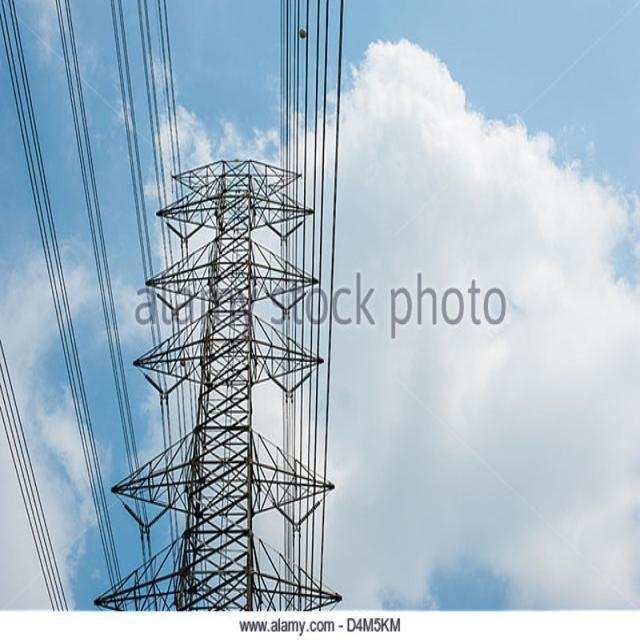non-critical vegetation: (105, 149, 340, 602)
